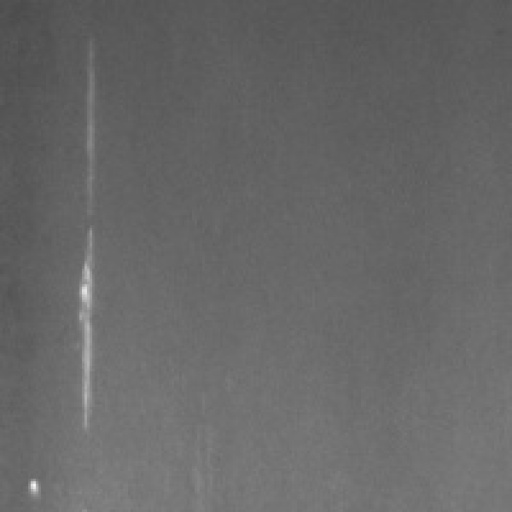scratches: (69, 29, 107, 444), (18, 469, 52, 505)
